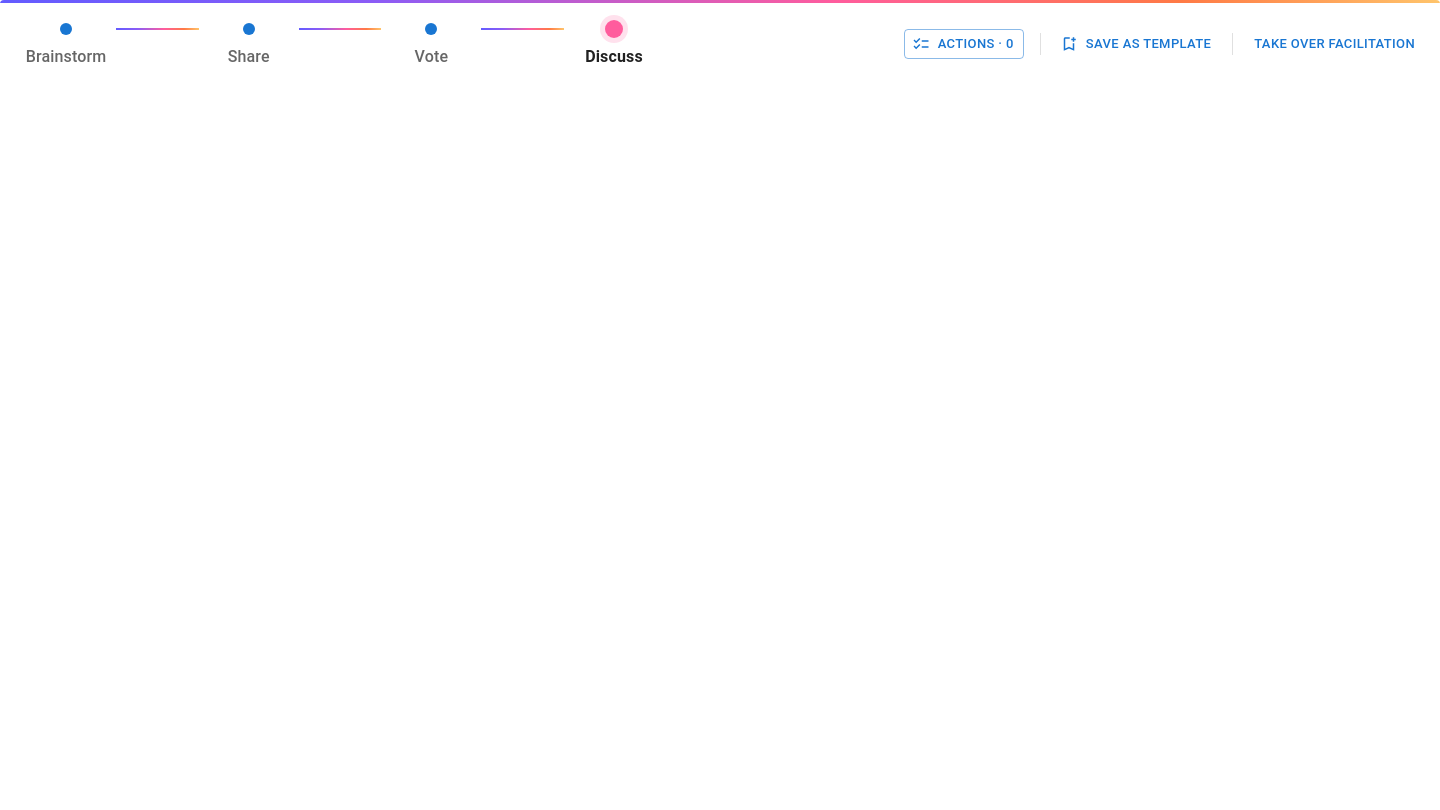
Scenario: BoardToolbar save as template › shows a conflict inside the dialog and keeps it open
Click the button "Save as template": (1137, 44) [1057,29,1216,59]
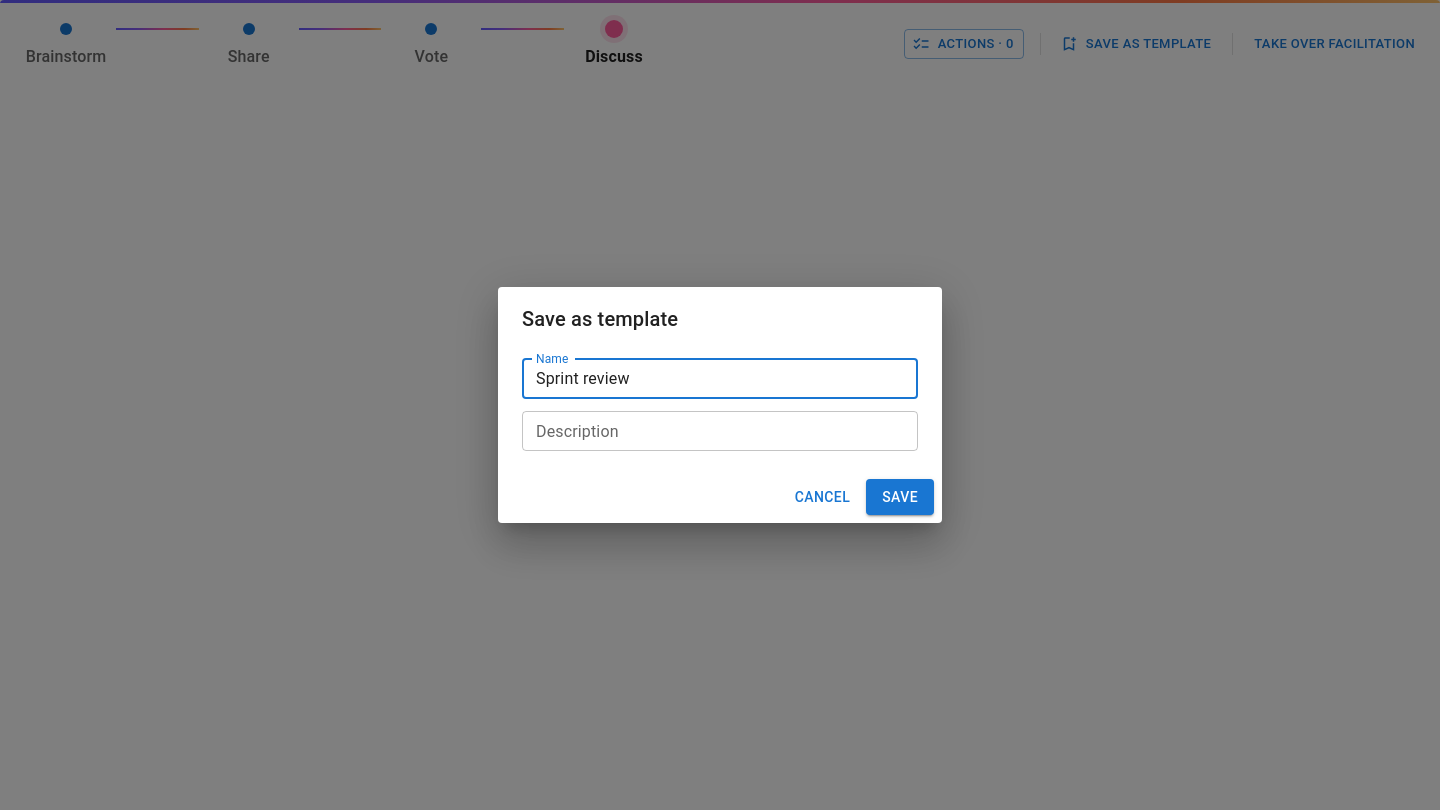
Click the button "Save": (900, 497) [866,479,934,515]
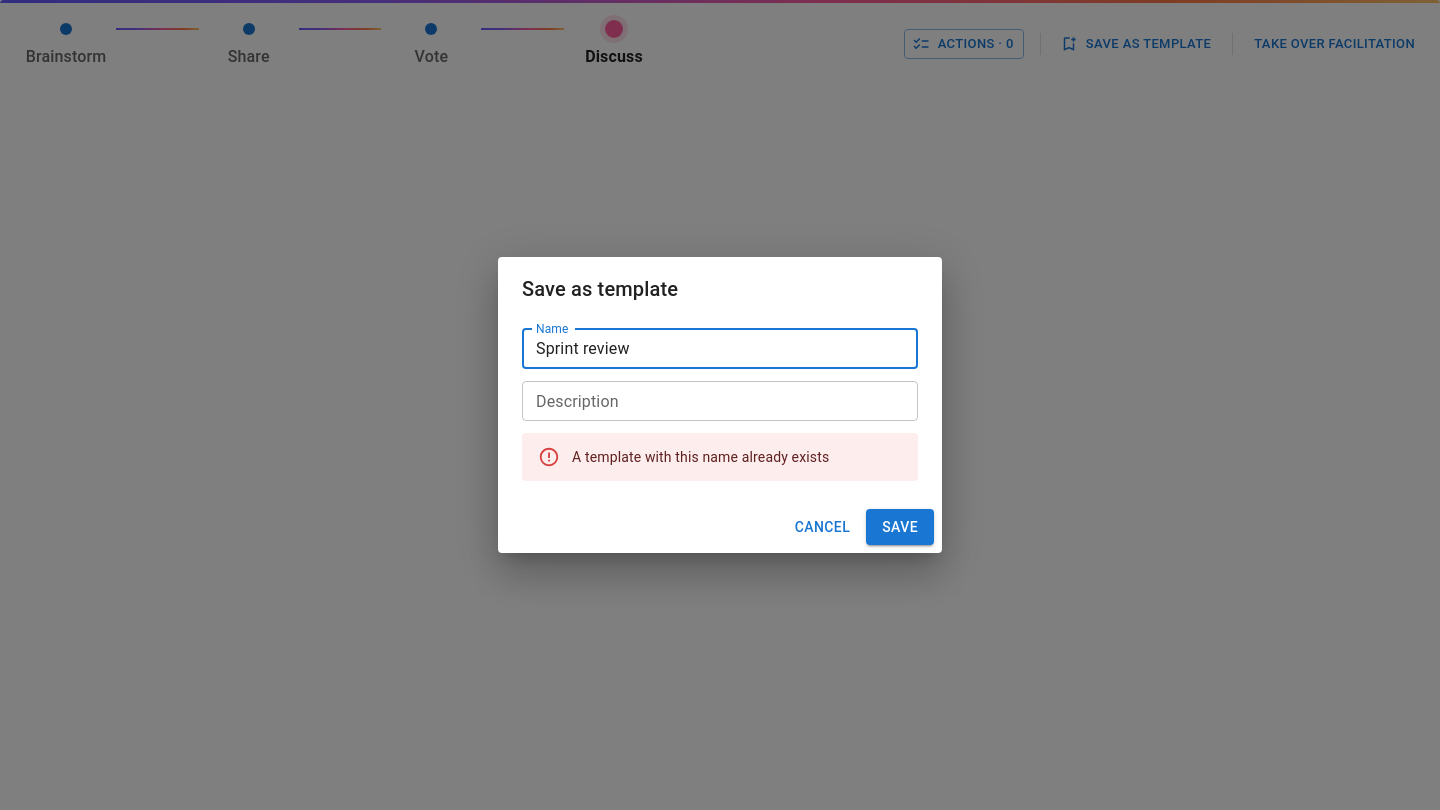
expect the field labelled "Name" is shown: met, box [522,329,918,369]
expect the message reads "A template with this name already exists": met, box [572,449,829,465]
